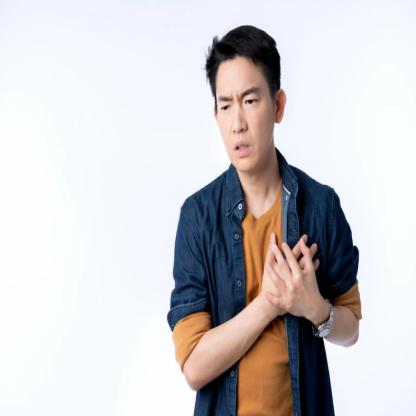pain: (214, 83, 264, 118)
